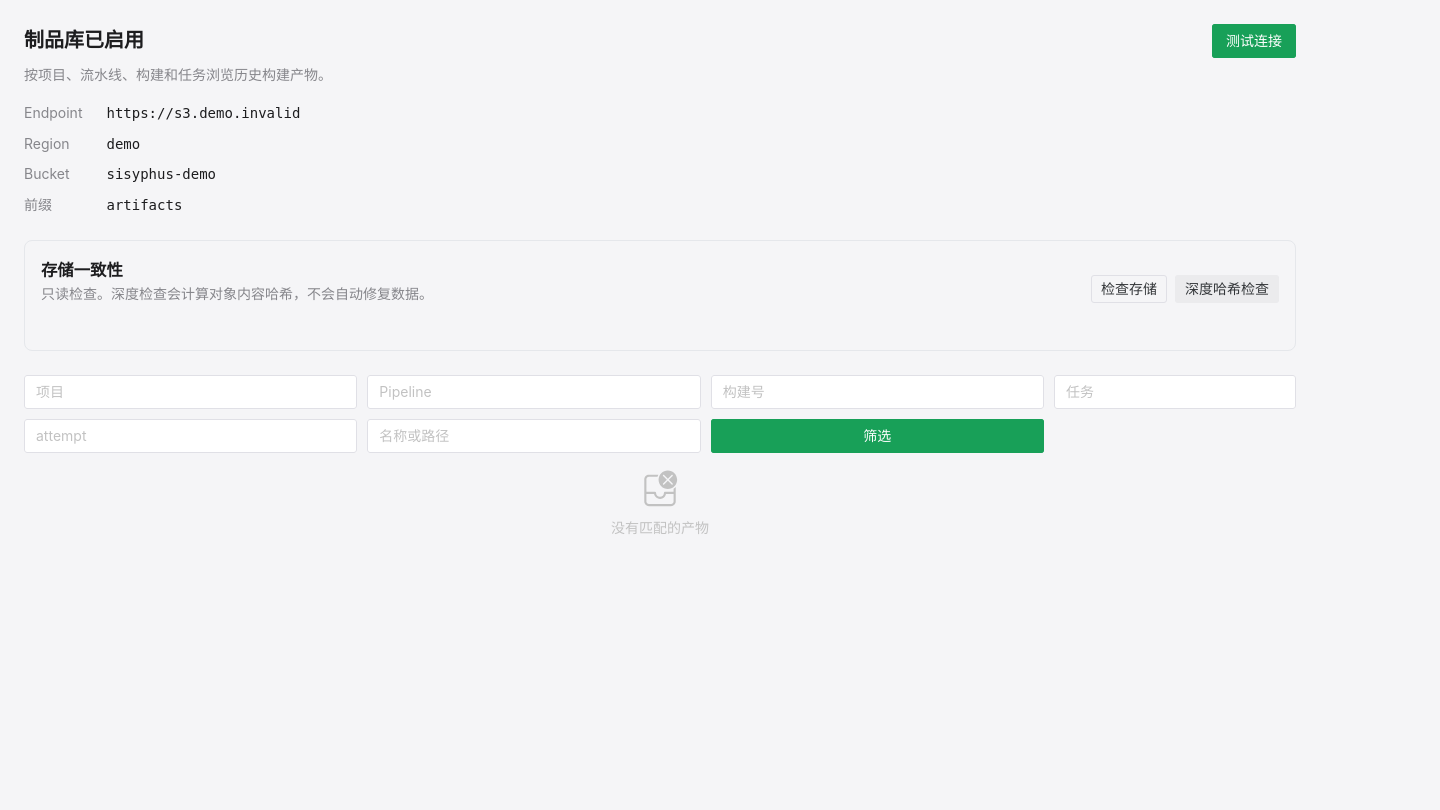
Test case: ArtifactRepositoryView 存储一致性检查（票 #143） › 深哈希检查带 finding、非零积压和错误列表
Check: the element with test id "storage-consistency" is shown, box [24,240,1296,351]
Click the button "深度哈希检查". click: click(1227, 289)
box: [1175,275,1279,303]
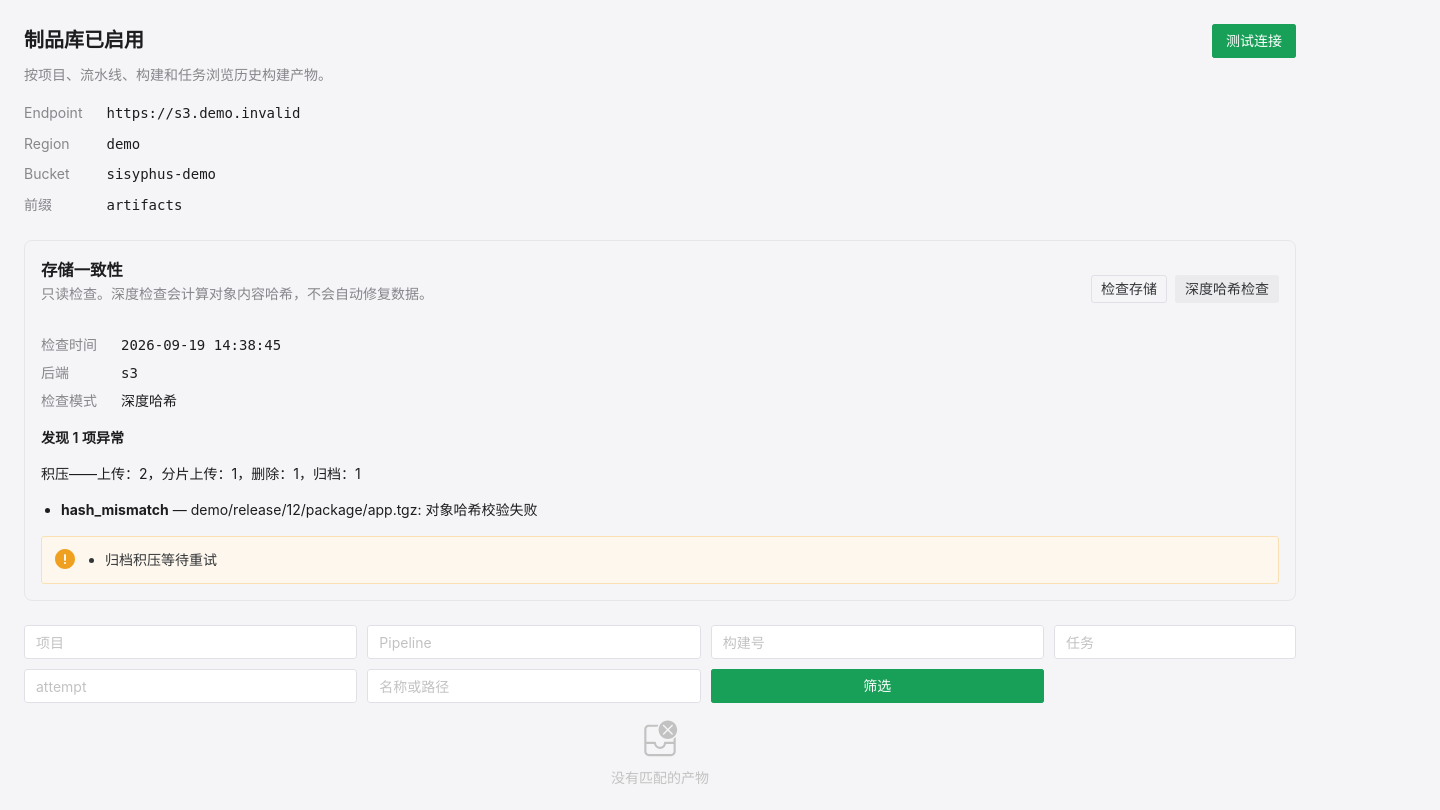
Check: the list with test id "consistency-findings" is shown, box [61,502,537,518]
Check: the element with test id "storage-consistency" shows "发现 1 项异常", box [41,429,124,446]
Check: the element with test id "storage-consistency" shows "demo/release/12/package/app.tgz", box [169,502,418,518]
